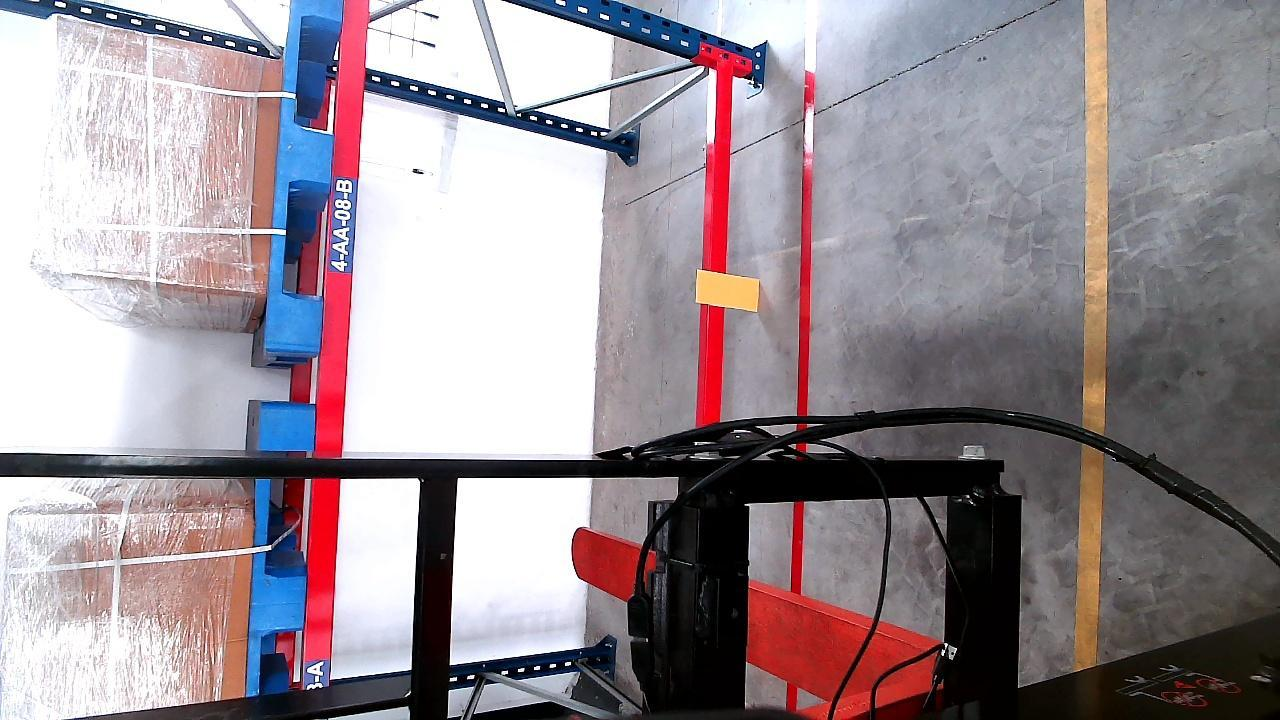red_line: (790, 1, 819, 593)
yellow_line: (1078, 0, 1113, 675)
